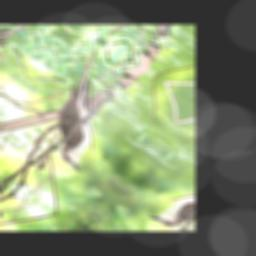Cuckoo: (18, 45, 156, 173)
